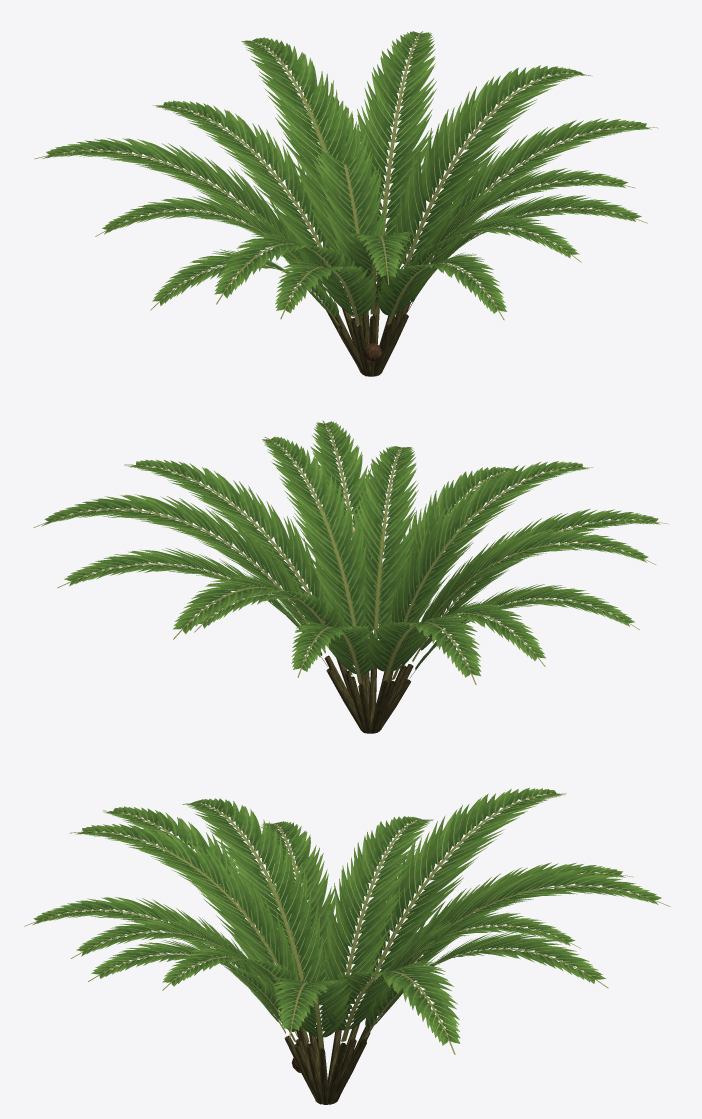
The model's file is golpata_a.glb.
3 views of the same model, one above another, from view 1: azimuth 30°, elevation 25°; view 2: azimuth 150°, elevation 25°; view 3: azimuth 270°, elevation 25° (orthographic). The views are drawn at different scales.
Visible parts, largest first — view 1: leaves, wood; view 2: leaves, wood; view 3: leaves, wood.
Boxes of the visible parts, box(x1,y1,x2,y2) form: leaves: box(34, 31, 658, 325); wood: box(324, 287, 410, 376); leaves: box(33, 420, 668, 684); wood: box(324, 655, 413, 733); leaves: box(24, 787, 670, 1054); wood: box(284, 1026, 370, 1104).
Bounding box in the file's own units: 11.37 × 4.35 × 11.02.
Materials: 2 (2 with a texture image).
